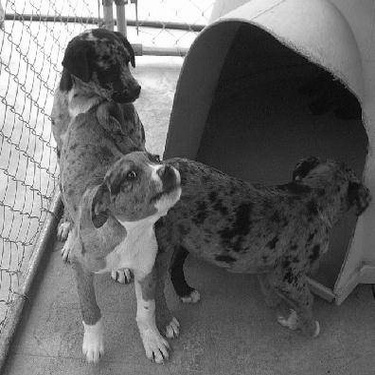dog: (147, 150, 372, 338), (49, 109, 183, 369), (40, 27, 152, 285)
